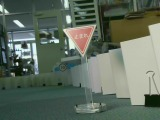stop: (62, 25, 96, 57)
